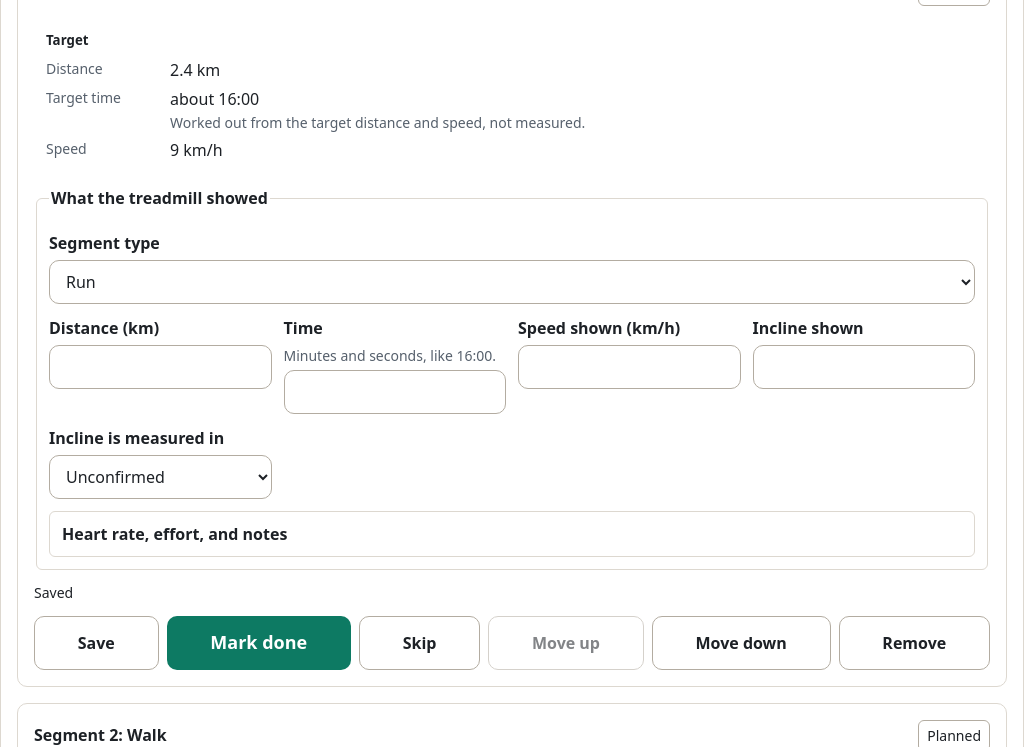
Test: the draft contract › keeps an invalid entry as a draft and stores nothing
(page scrolled)
Step 1. Type "three km" into the field labelled "Distance (km)" → (160, 367), box [49,345,272,389]
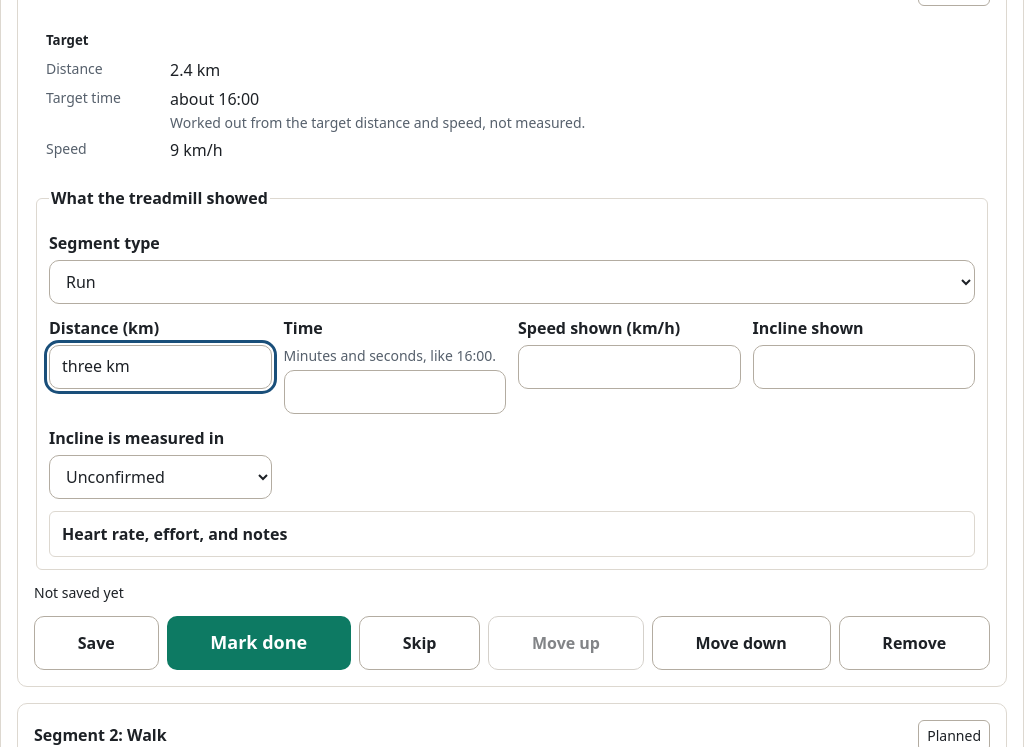
Step 2. Click the button "Save" → (96, 643), box [34,616,159,670]
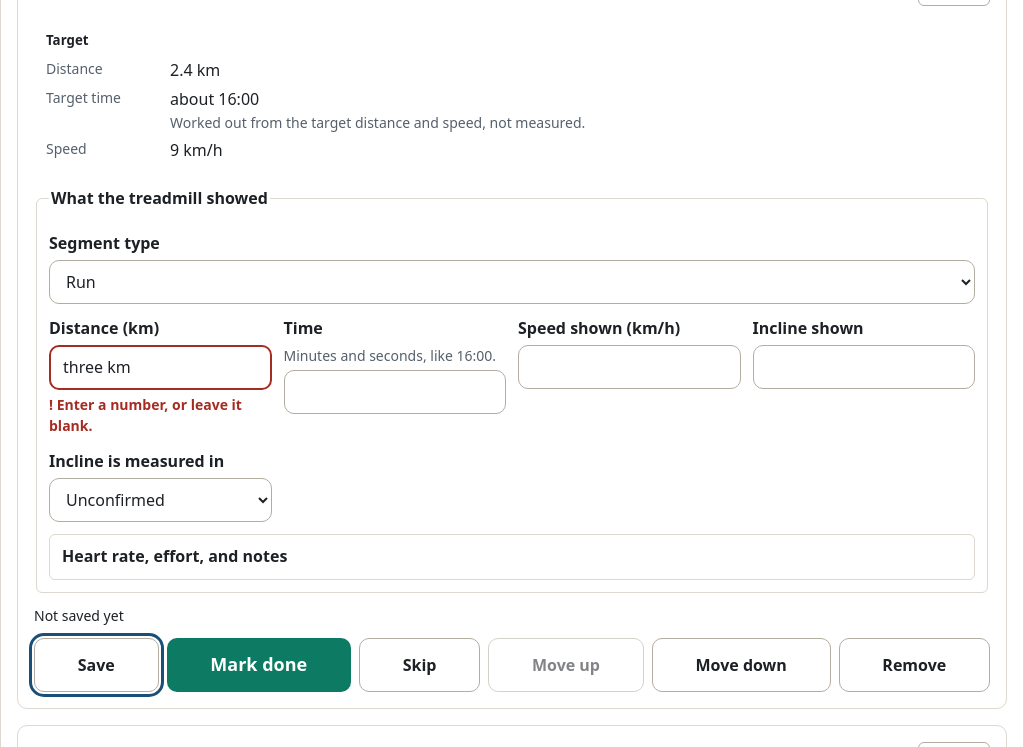
Expected: the text "Enter a number, or leave it blank." is shown, [49,394,272,437]
